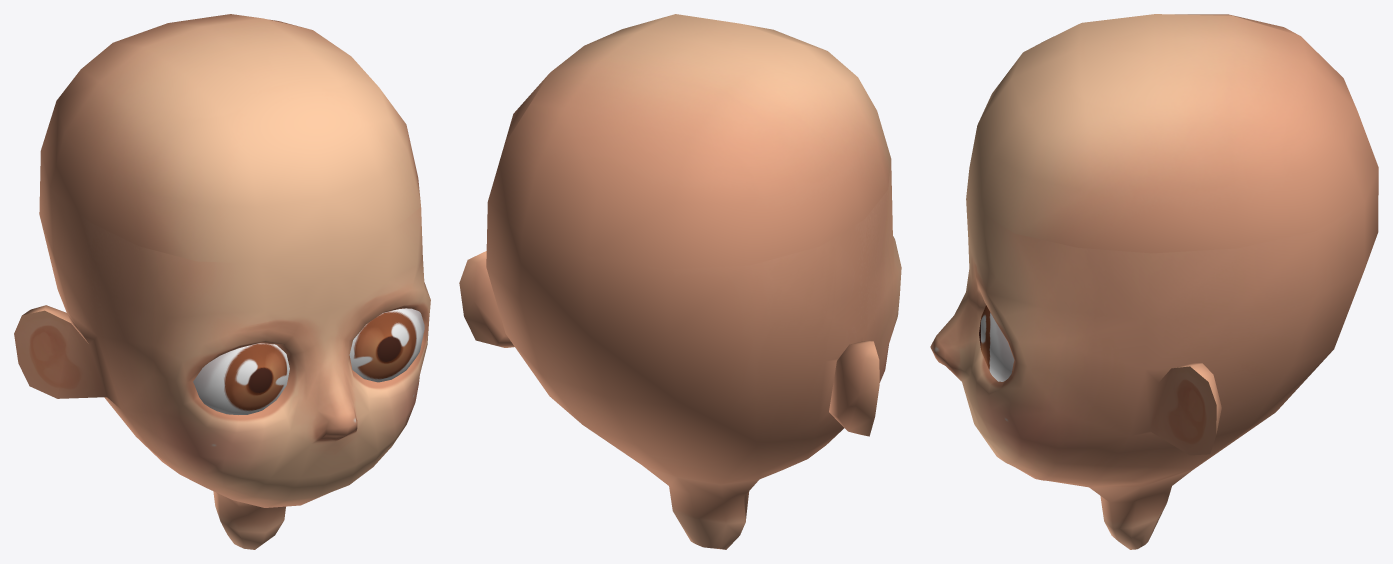
Rendered from head.fbx.
3 views of the same model, side by side, from view 1: azimuth 30°, elevation 25°; view 2: azimuth 150°, elevation 25°; view 3: azimuth 270°, elevation 25° (orthographic). The views are drawn at different scales.
Visible parts, largest first — view 1: head; view 2: head; view 3: head.
Boxes of the visible parts, x1,y1,x2,y2 form: head: (14,14,430,549); head: (459,14,901,549); head: (930,14,1378,549).
Size of the model in its own units: 33.13 by 38.89 by 31.09.
